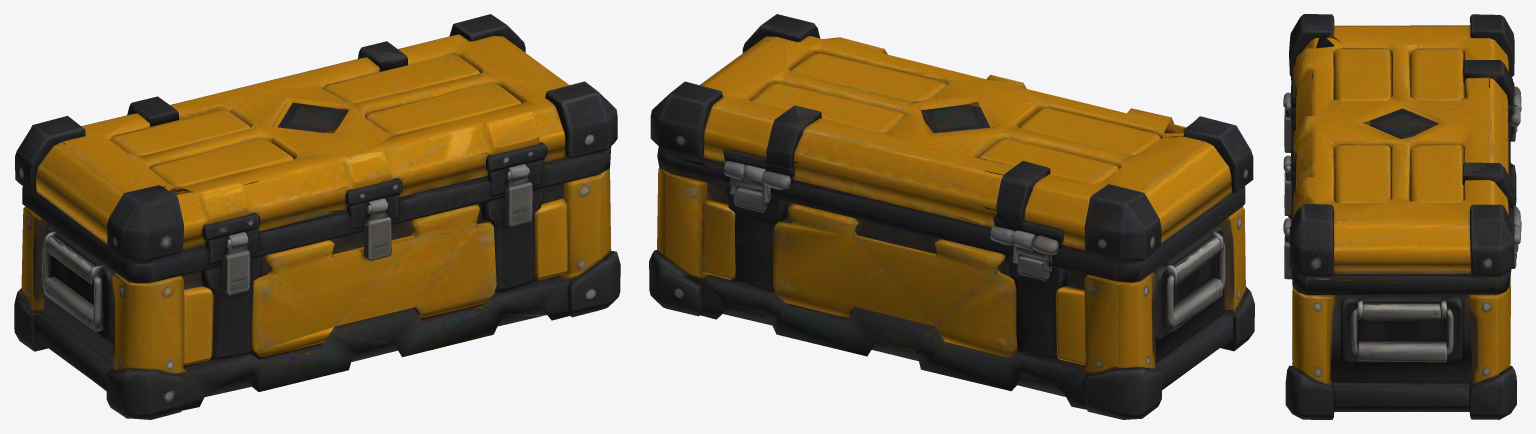
Rendered from tier-5-heavy.glb.
The picture shows the model from 3 angles, left to right: view 1: azimuth 30°, elevation 25°; view 2: azimuth 150°, elevation 25°; view 3: azimuth 270°, elevation 25°; orthographic projection. The views are drawn at different scales.
Parts seen in each view (by area): view 1: tier-5-heavy; view 2: tier-5-heavy; view 3: tier-5-heavy.
Boxes of the visible parts, x1=… form: tier-5-heavy: x1=14, y1=14, x2=620, y2=419; tier-5-heavy: x1=649, y1=14, x2=1254, y2=419; tier-5-heavy: x1=1283, y1=14, x2=1521, y2=419.
Bounding box in the file's own units: 2.2 × 0.9 × 1.
1 material, 1 textured.
